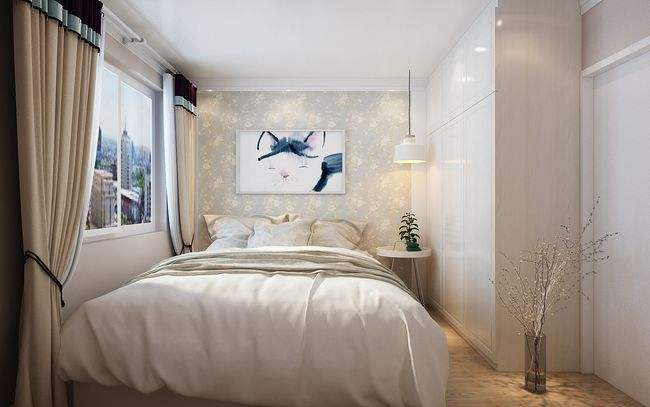床: (64, 244, 450, 402)
枕头: (199, 213, 360, 253)
灯: (396, 71, 422, 173)
